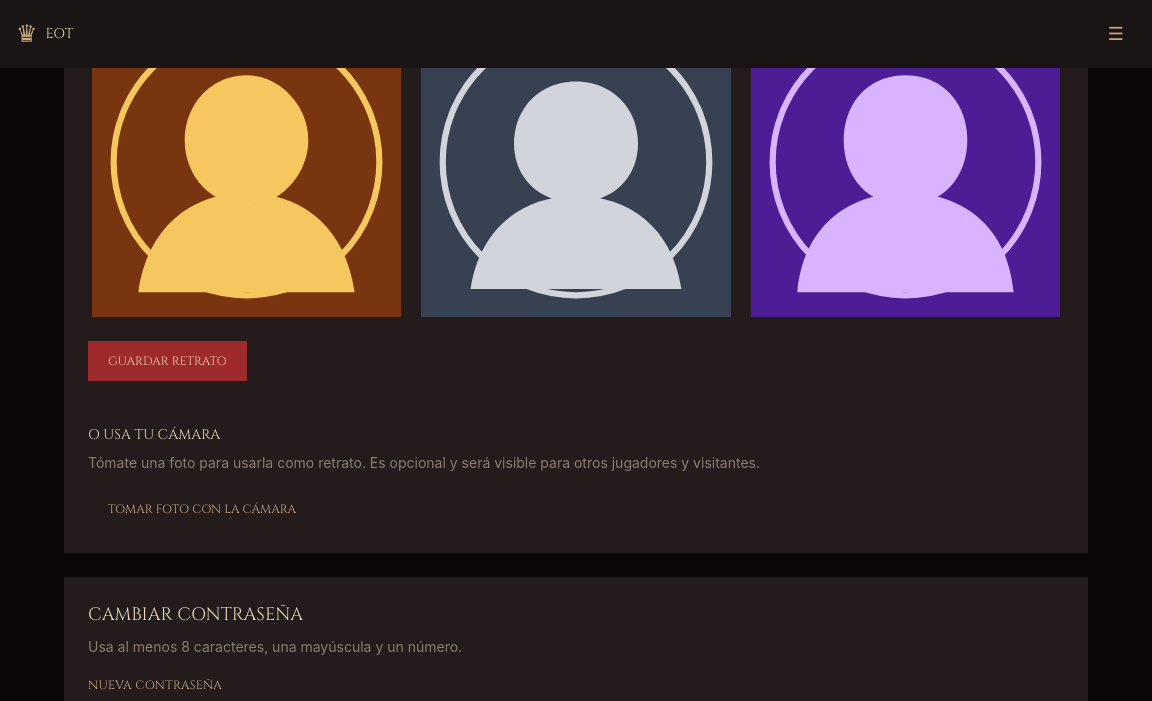
Test case: explains that the portrait will be saved when back online
The width and height of the screenshot is (1152, 701).
(page scrolled)
Click the button "Guardar retrato" at (167, 361), box [88,341,247,381]
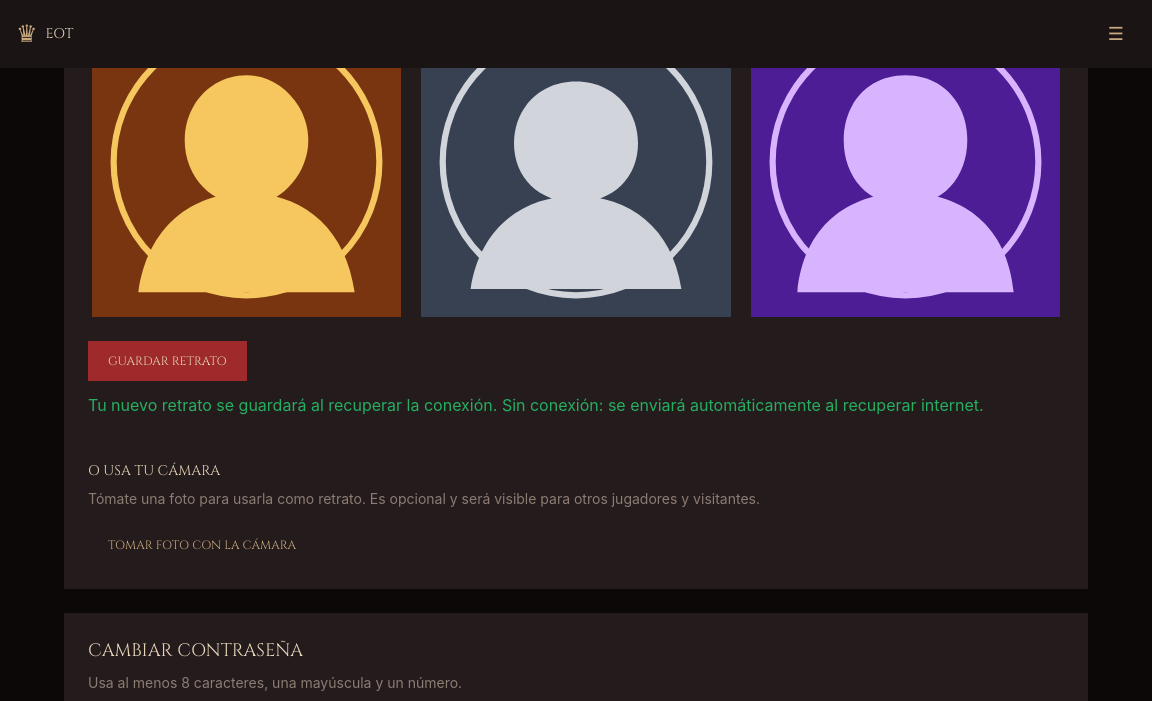
Result: the text "se guardará al recuperar la conexión" is shown at [88,395,984,415]
